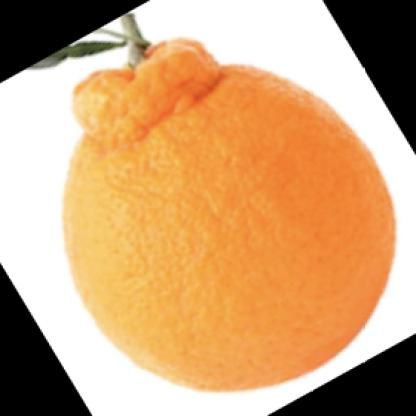fresh: (61, 33, 398, 393)
